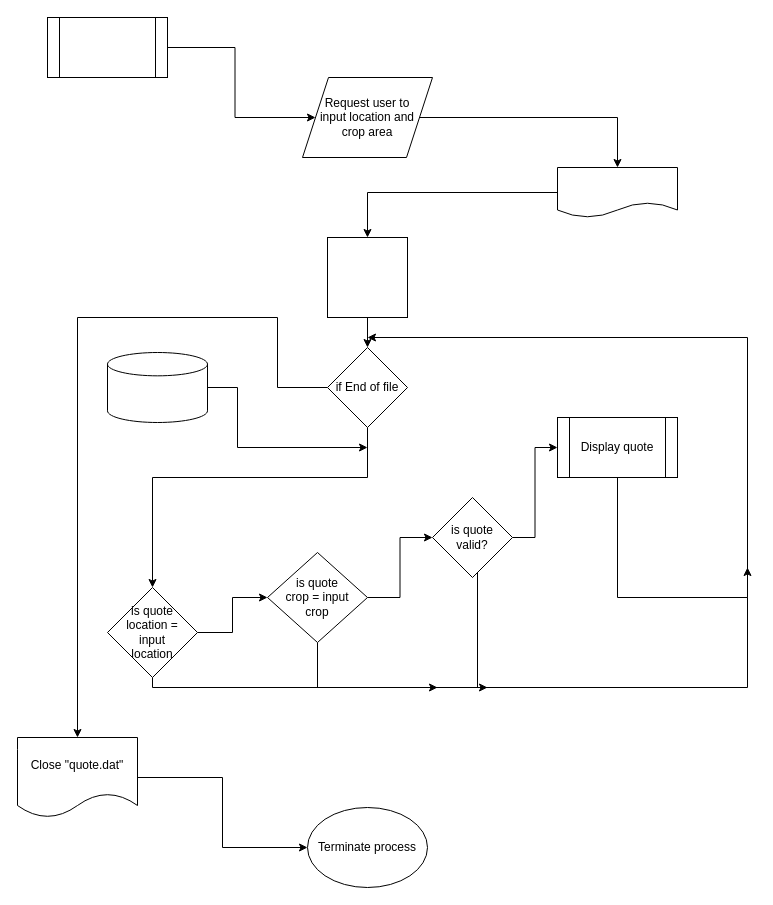
The diagram is 773 pixels wide and 905 high, and some of its shapes have lost their labels. Each missing label, with the box of its shape:
find_by_location: (46, 16, 168, 78)
Initialize buyer_quote object "quote": (326, 236, 408, 318)
Open "quote.dat": (556, 166, 678, 218)
Read "quote.dat" into quote object: (106, 352, 208, 422)
